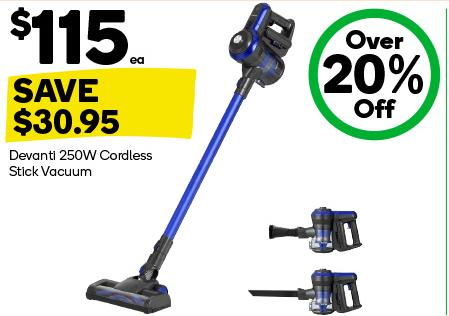description_block: (7, 147, 158, 182)
price_main: (2, 2, 159, 68)
product_image_block: (232, 180, 378, 314)
promo_text_block: (2, 73, 198, 142)
